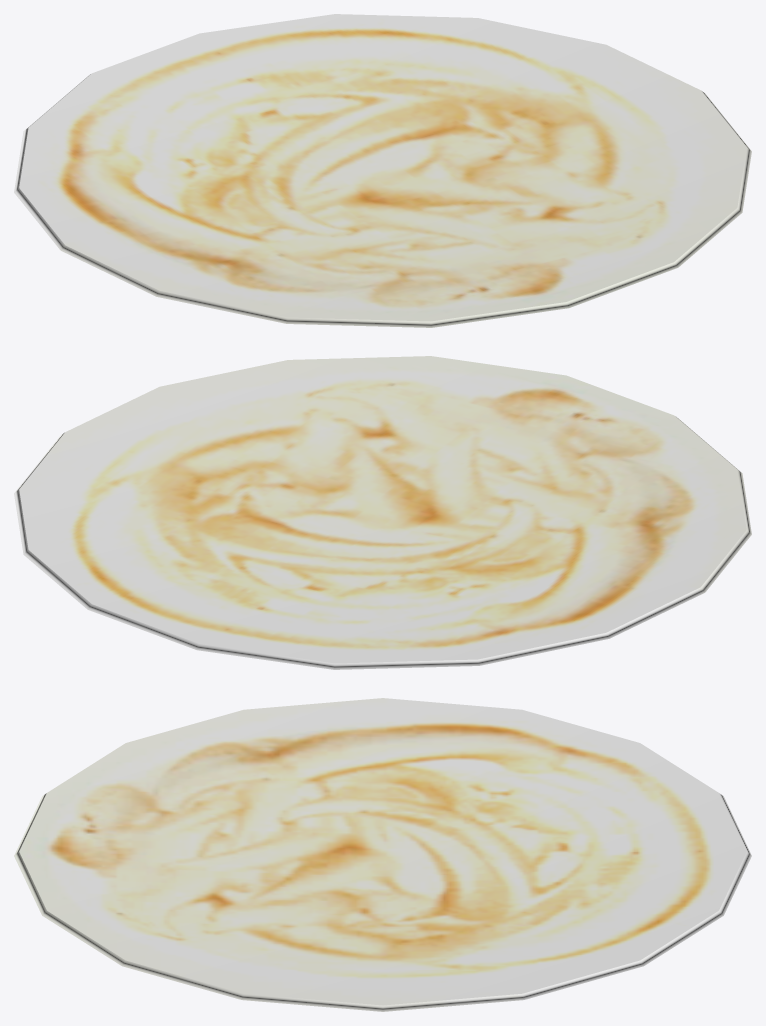
The model's file is plateRegularDirty.fbx.
The picture shows the model from 3 angles, top to bottom: view 1: azimuth 30°, elevation 25°; view 2: azimuth 150°, elevation 25°; view 3: azimuth 270°, elevation 25°; orthographic projection.
Parts seen in each view (by area): view 1: platerRegularDirty; view 2: platerRegularDirty; view 3: platerRegularDirty.
Boxes of the visible parts, box(x1,y1,x2,y2) form: platerRegularDirty: box(14, 14, 751, 327); platerRegularDirty: box(14, 356, 751, 669); platerRegularDirty: box(14, 698, 751, 1011).
Size of the model in its own units: 0.3777 by 0.0138 by 0.3777.
Materials: 1 (1 with a texture image).
